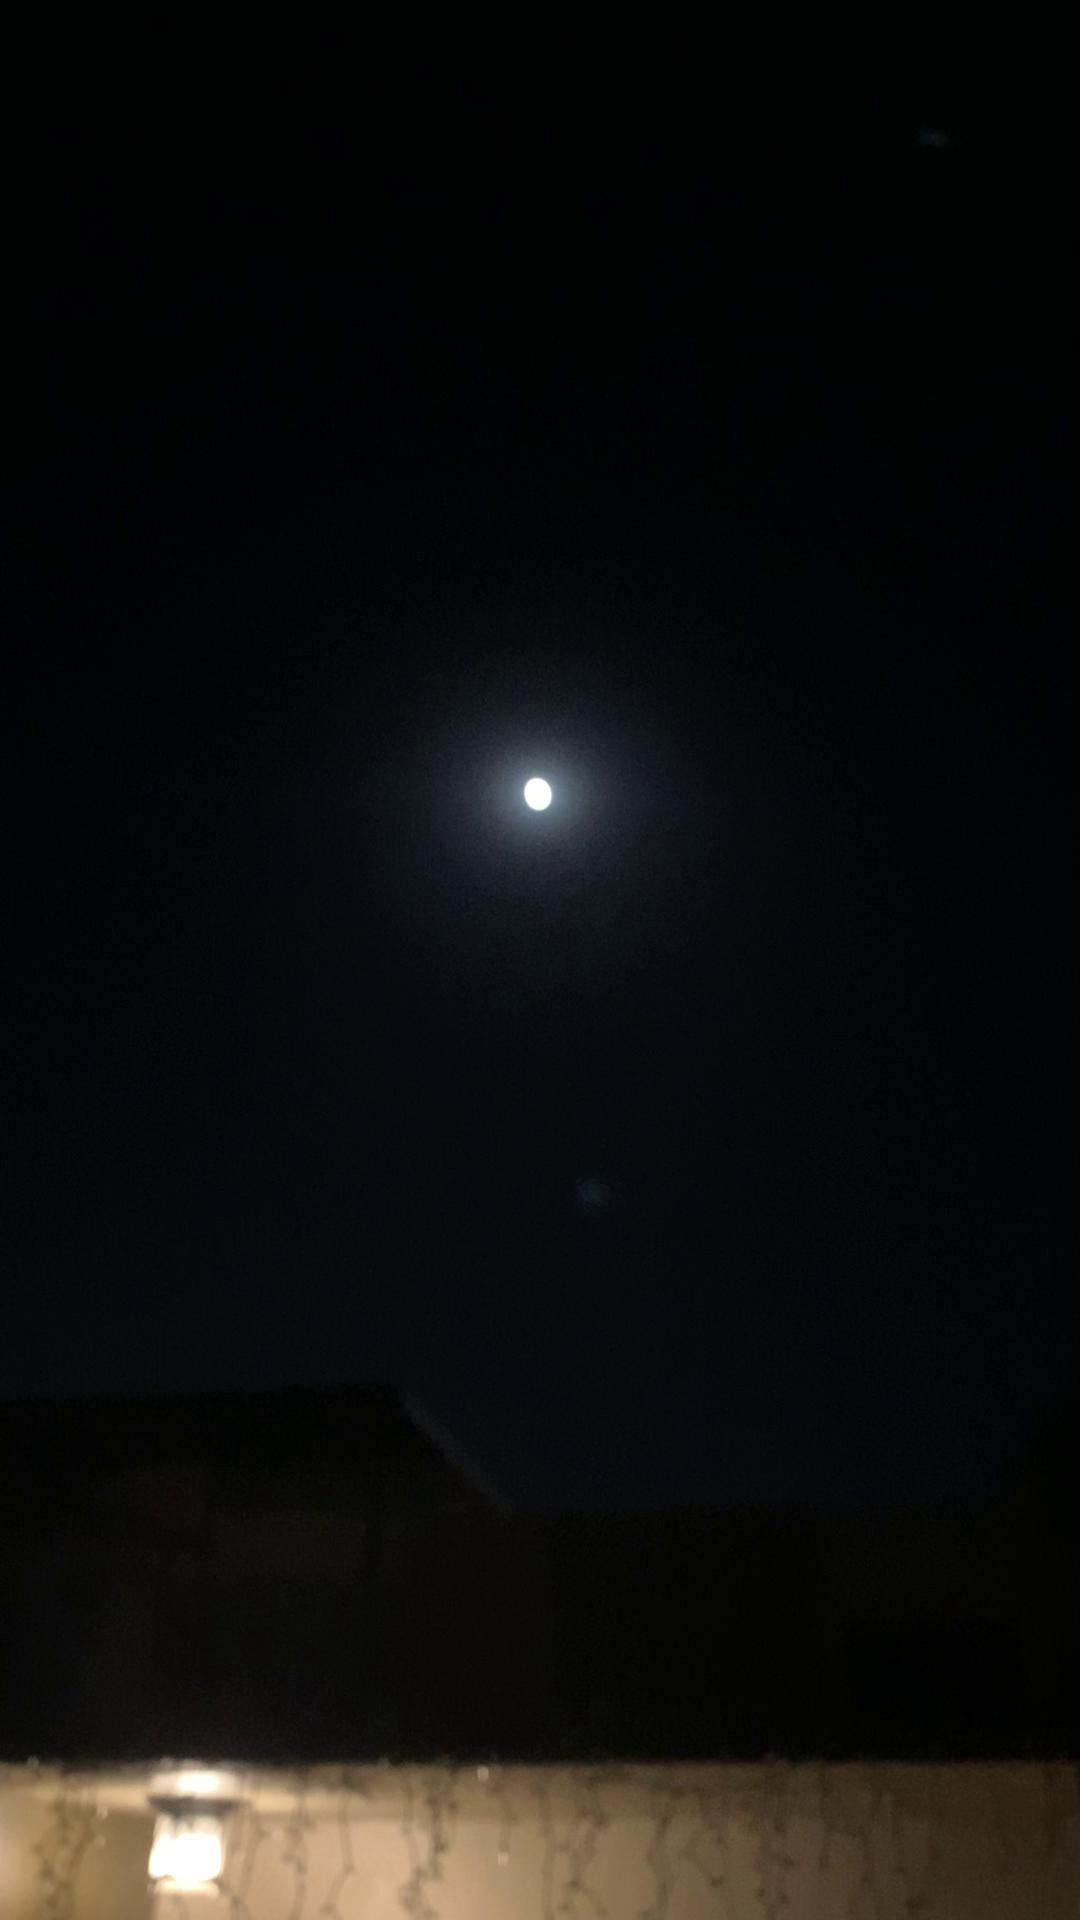moon: (502, 742, 589, 837)
